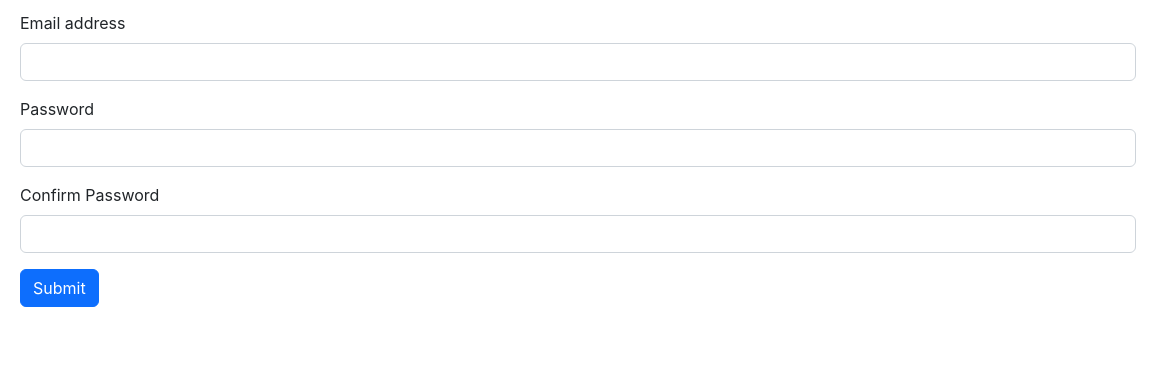
Test: Error handling › should show confirm-password error if passwords dont match
The width and height of the screenshot is (1157, 368).
In the field labelled "Email address": (578, 62) [20,43,1136,81], type "blabla@mail.com"
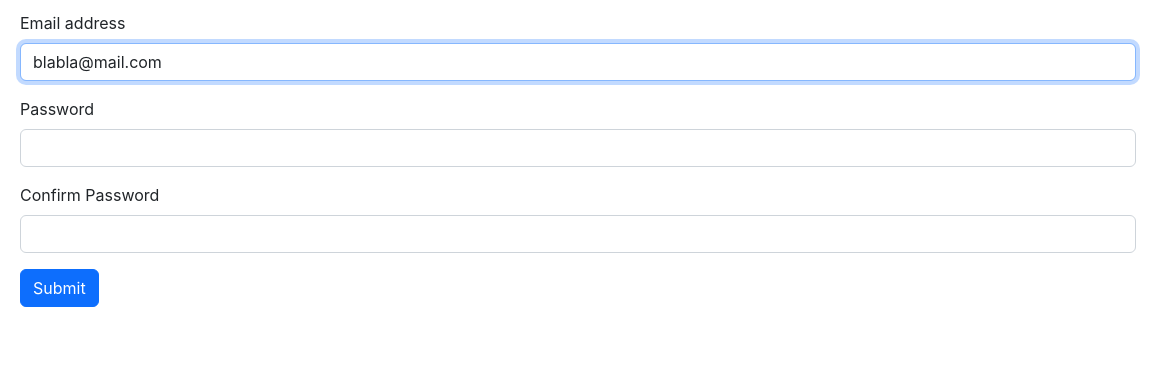
In the password field labelled "Password": (578, 148) [20,129,1136,167], type "12345"
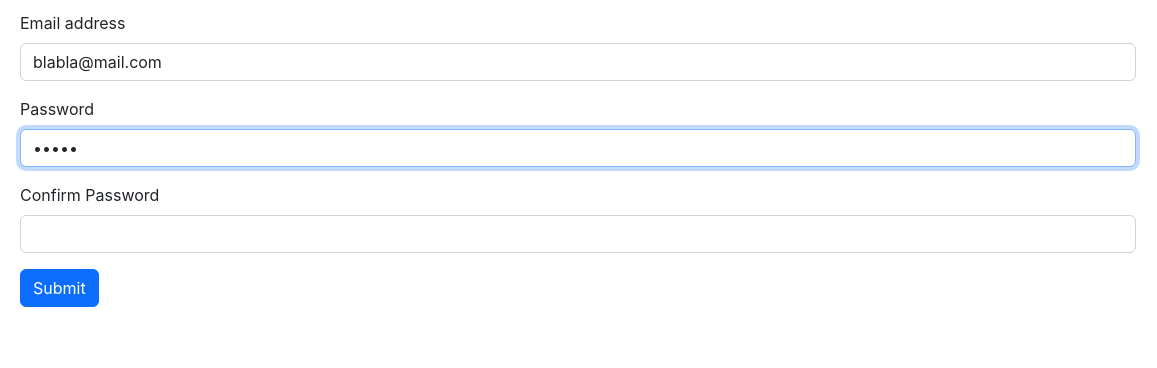
In the password field labelled "Confirm Password": (578, 234) [20,215,1136,253], type "12347"
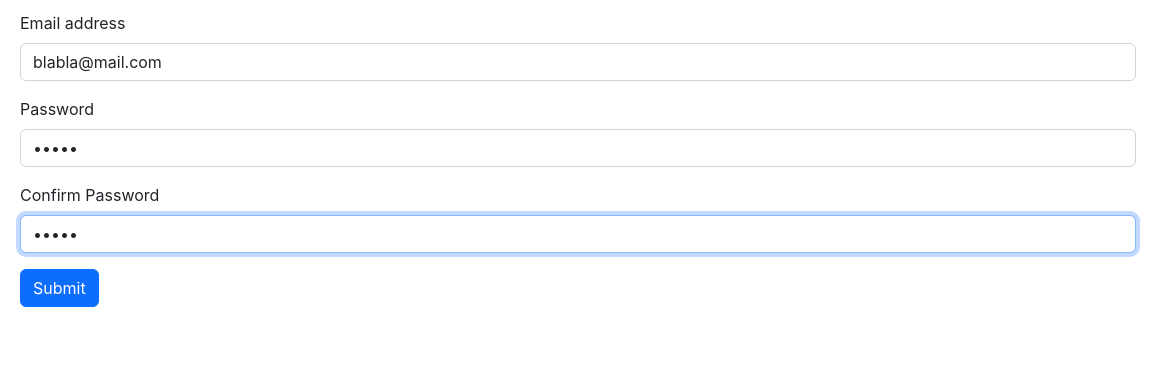
Expected: the text "the passwords don't match. try again" is not shown
Click the button "Submit": (59, 288) [20,269,99,307]
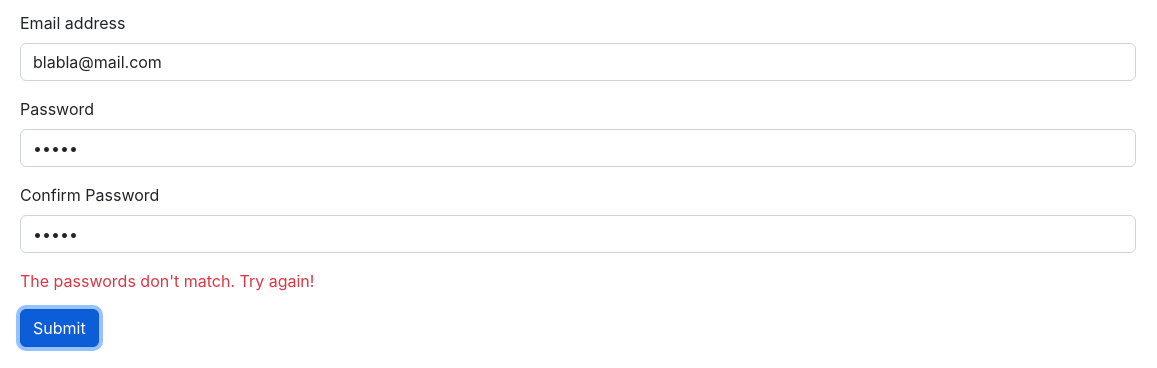
Expected: the text "The passwords don't match. Try again!" is shown, [20,271,314,291]
